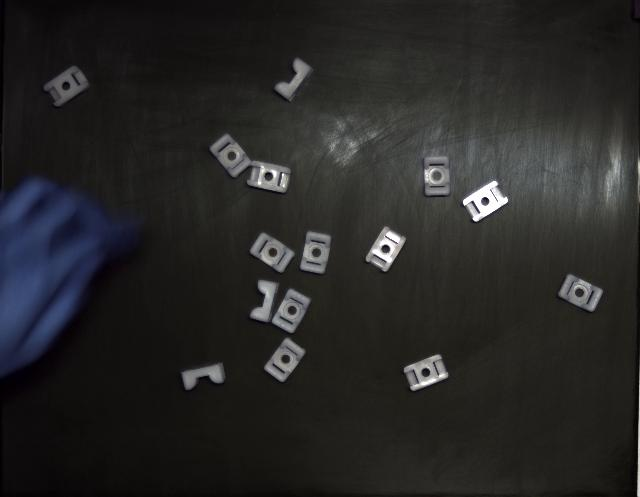first_side: (210, 134, 251, 178), (250, 232, 295, 272), (264, 339, 305, 382), (272, 289, 311, 334), (558, 275, 602, 312), (300, 231, 331, 274), (424, 156, 450, 196)
second_side: (44, 66, 90, 108), (462, 181, 508, 222), (365, 228, 406, 272), (404, 355, 449, 391), (248, 161, 291, 194)
third_side: (274, 58, 312, 101), (250, 280, 279, 322), (181, 364, 225, 391)
